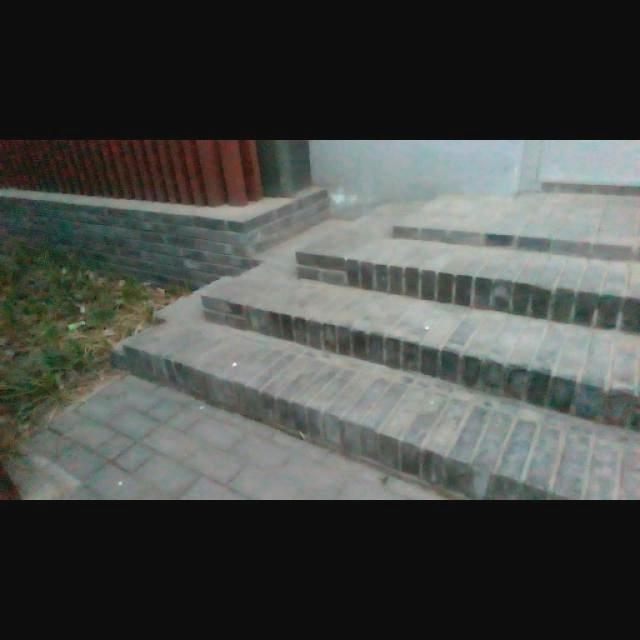stair: (198, 204, 628, 487)
